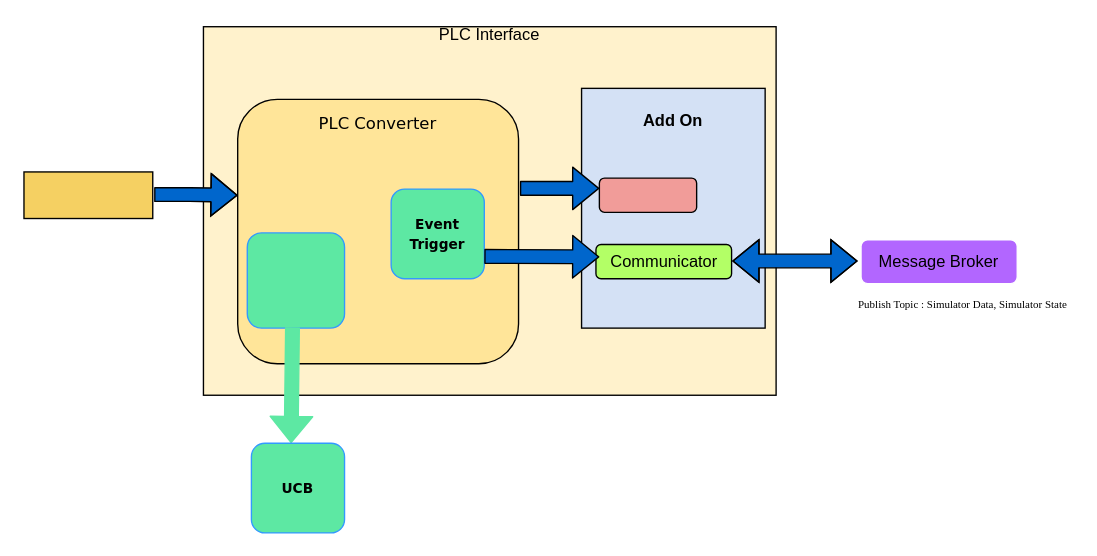
Some shapes in this 1097 by 556 pixel diagram are drawn without their labels. The centre of each missing label's shape, as x and y in pixels:
"Excel" belongs at (x=88, y=195).
"Logger" belongs at (x=647, y=194).
"Raw Data Converter" belongs at (x=295, y=280).
